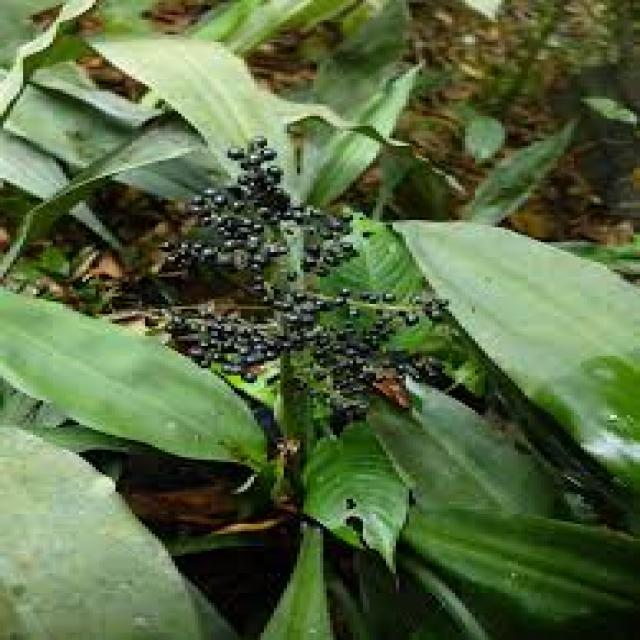Aquatic-Ginger: (158, 134, 452, 420)
